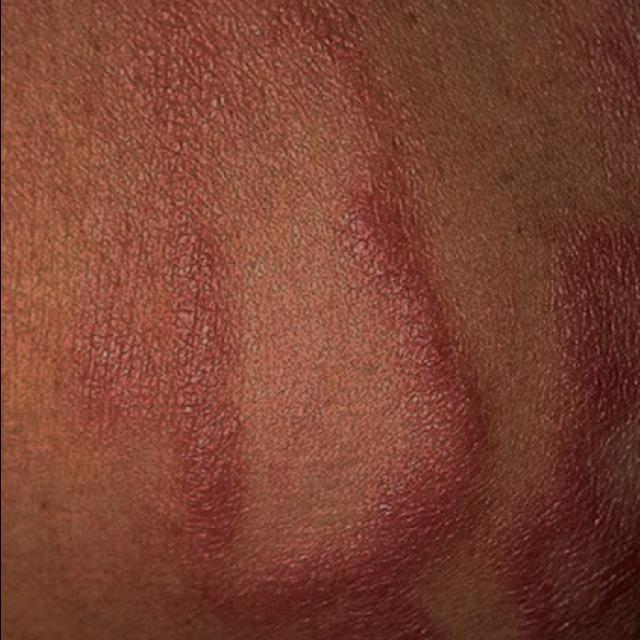Leprosy: (123, 0, 499, 640), (507, 188, 640, 640)
